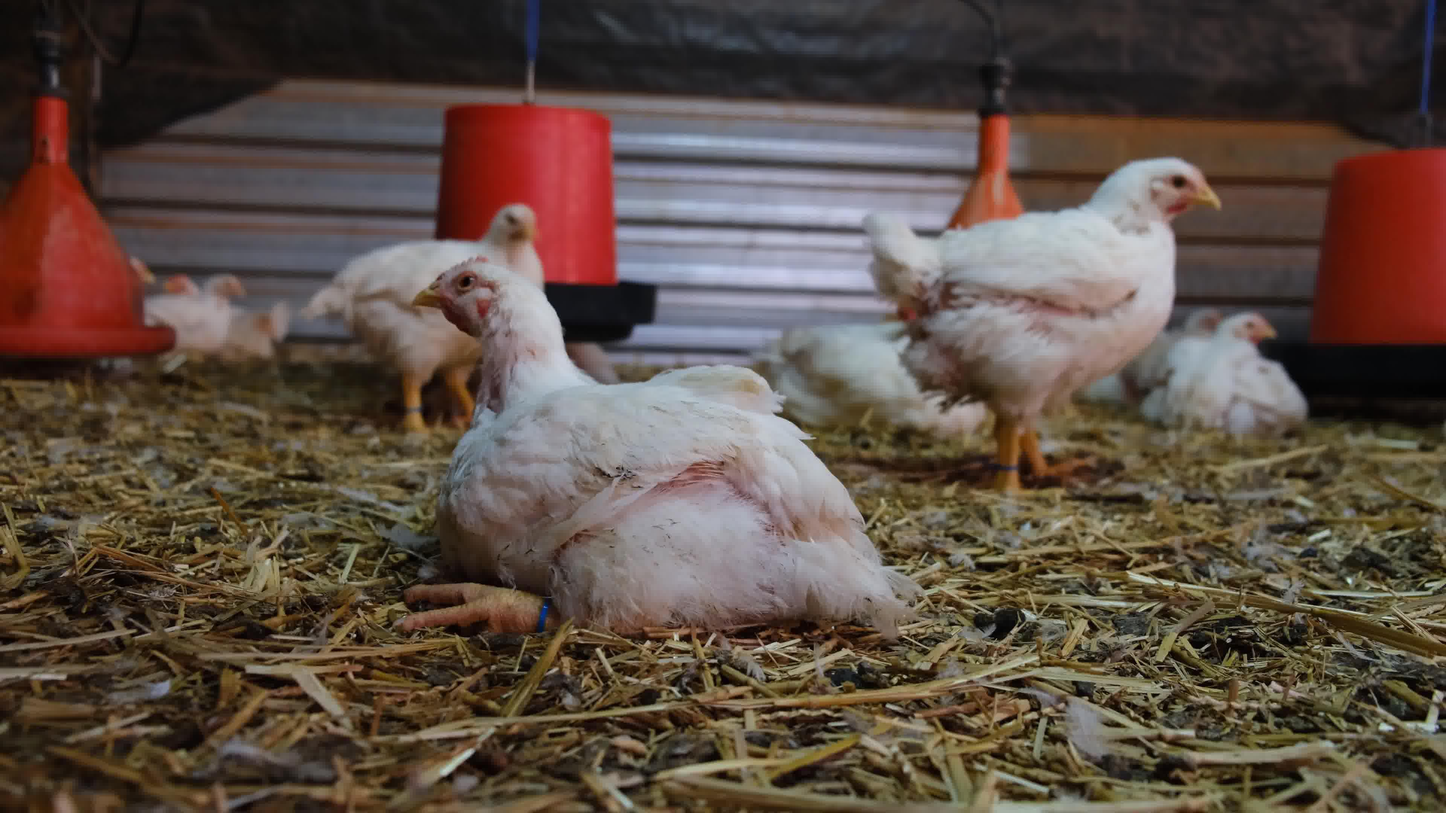AbNormal: (384, 258, 913, 640), (736, 294, 1007, 455), (1194, 309, 1316, 437), (1162, 279, 1243, 420), (235, 305, 307, 365)
Normal: (849, 151, 1222, 502), (305, 201, 567, 440), (136, 269, 254, 371)
